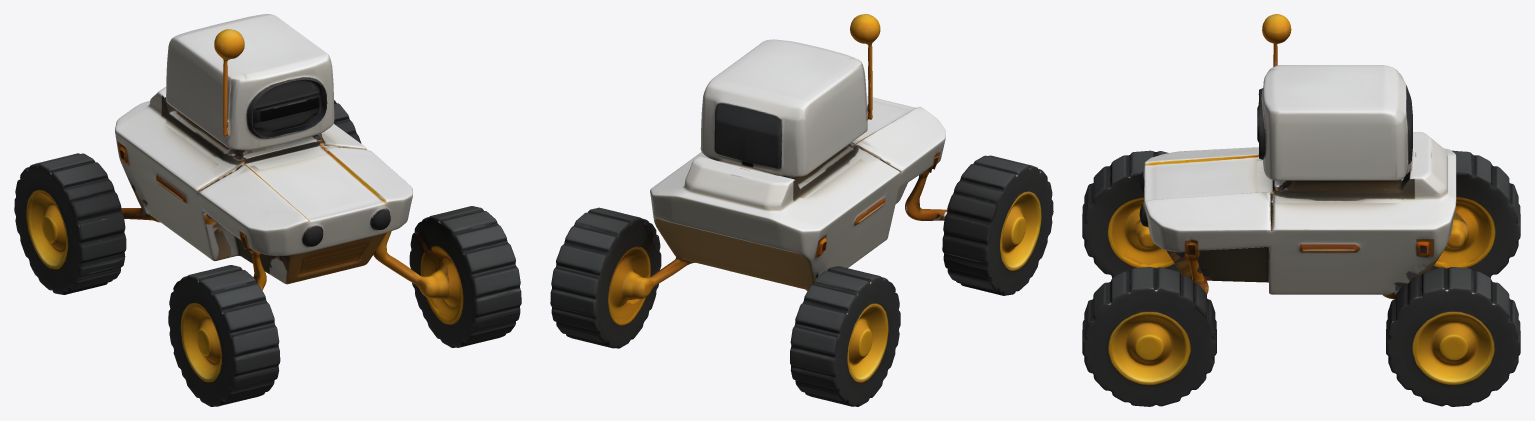
Rendered from Space-rover.fbx.
3 renders of one model, left to right at view 1: azimuth 30°, elevation 25°; view 2: azimuth 150°, elevation 25°; view 3: azimuth 270°, elevation 25°, orthographic.
Visible parts, largest first — view 1: Space-rover; view 2: Space-rover; view 3: Space-rover.
Boxes of the visible parts, x1,y1,x2,y2 form: Space-rover: [14, 14, 521, 406]; Space-rover: [550, 14, 1053, 406]; Space-rover: [1082, 14, 1520, 406].
Size of the model in its own units: 142 by 143 by 190.
